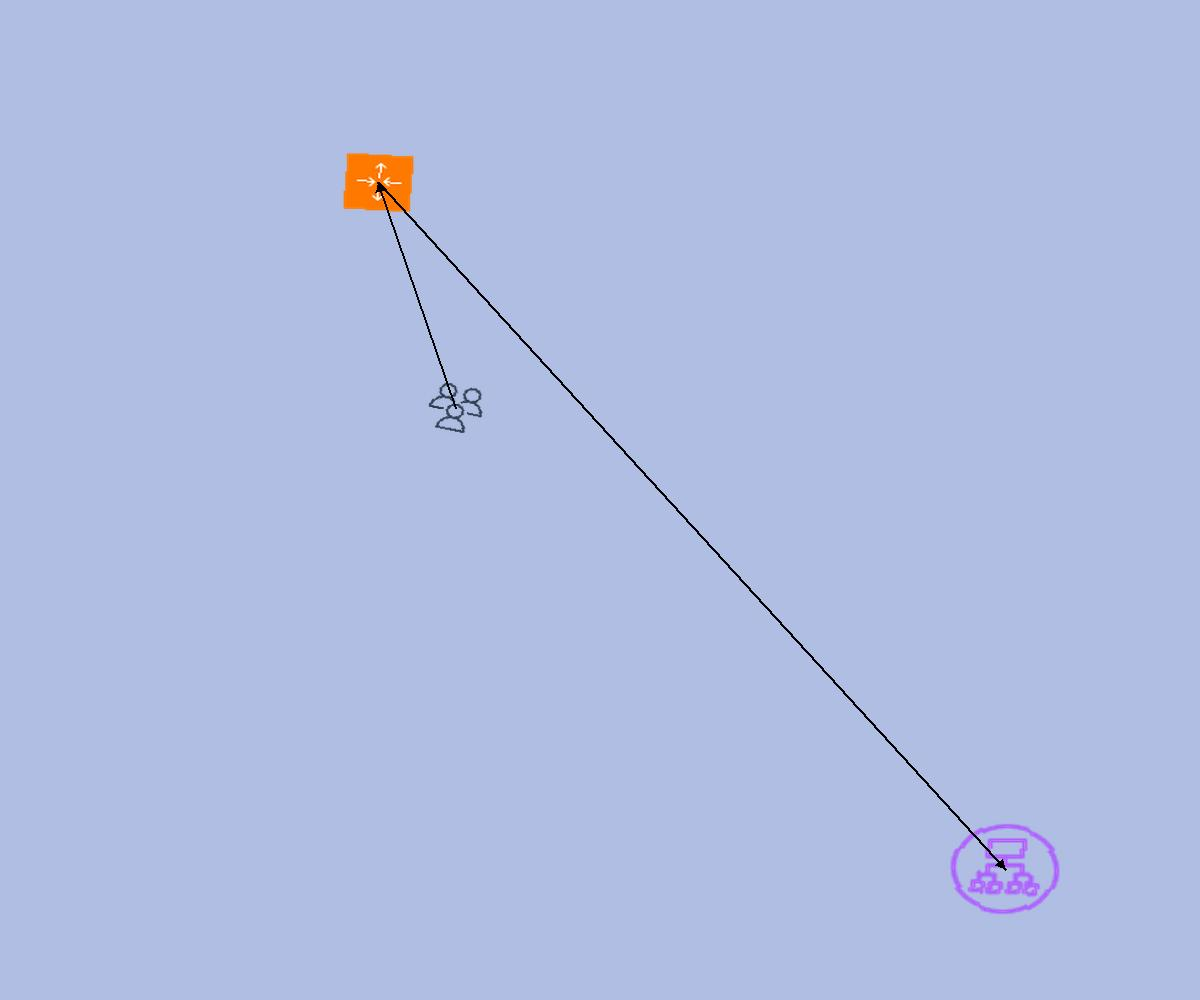AWS-Res_Elastic-Load-Balancing_Application-Load-Balancer: (941, 816, 1069, 922)
AWS-Res_Users: (419, 377, 493, 439)
AWS-Scaling-group: (342, 152, 415, 213)
